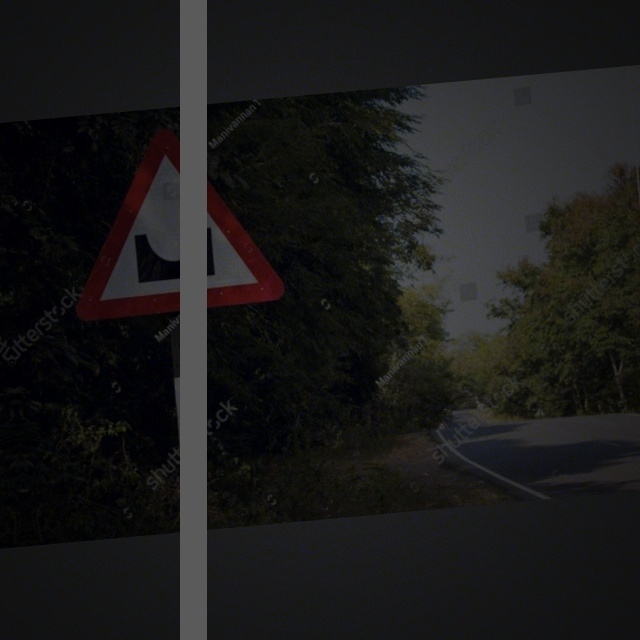Dangerous_Dip: (59, 122, 281, 319)
